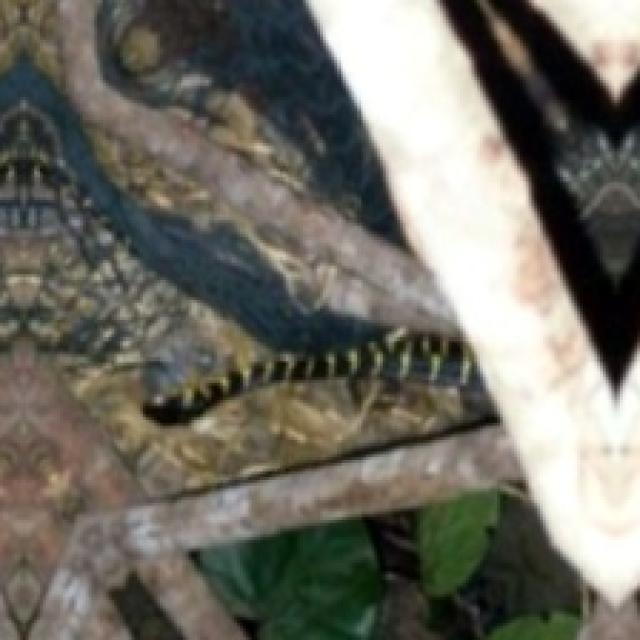mangrove cat snake: (143, 329, 477, 423)
